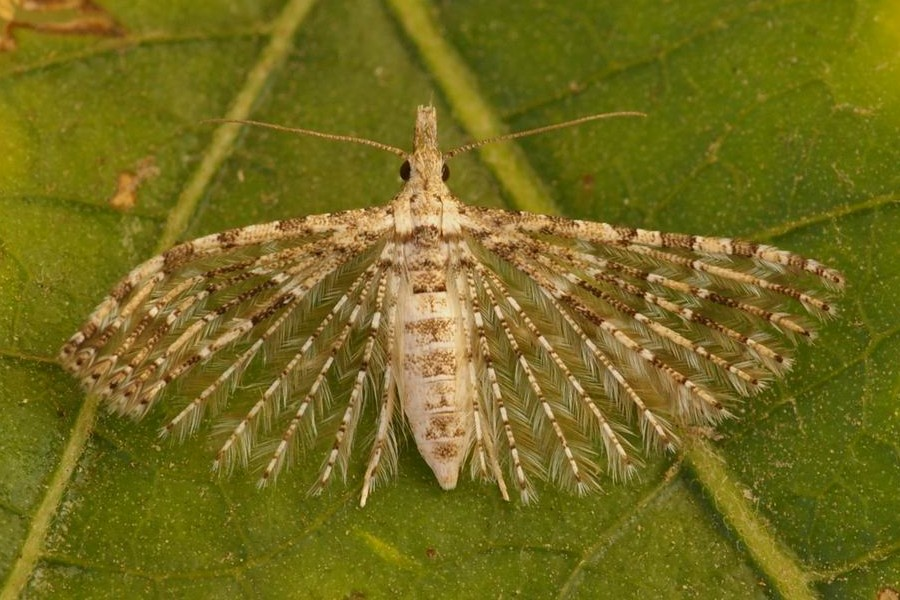Alucitidae: (49, 103, 844, 518)
moth: (47, 101, 842, 516)
